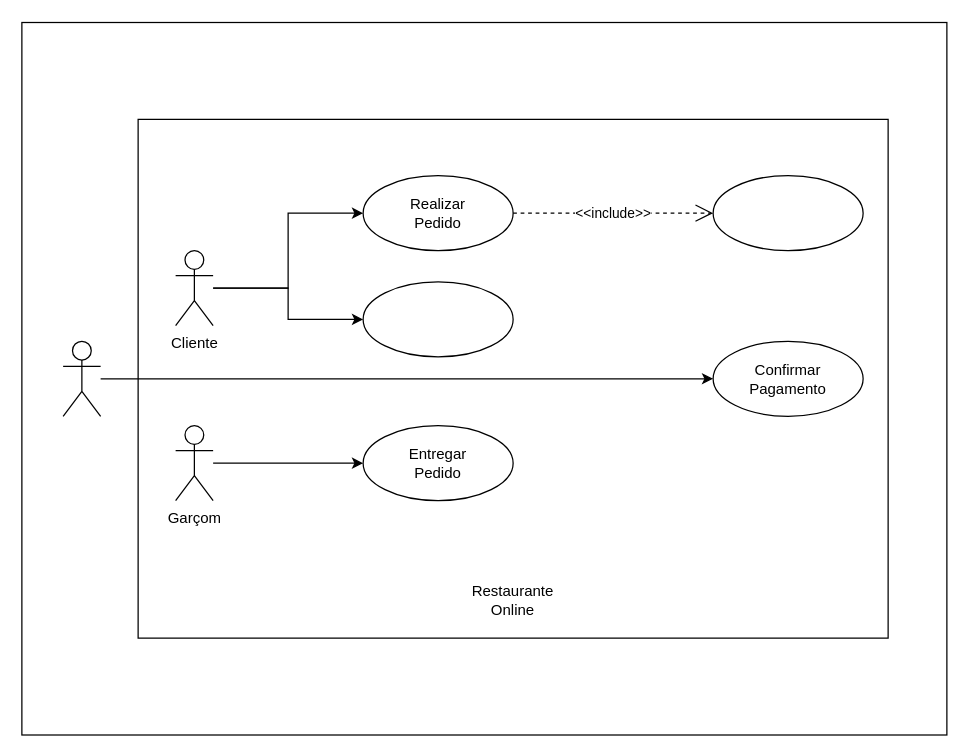
Image size: 969x756. Some labels were removed from this diagram. Here are the shapes that lost their labels. From the top down, the centre of each, then its label:
At pixel 787 212: "Efetuar Pagamento".
At pixel 437 319: "Visualizar Cardápio".
At pixel 81 378: "Sistema de Pagamento".
